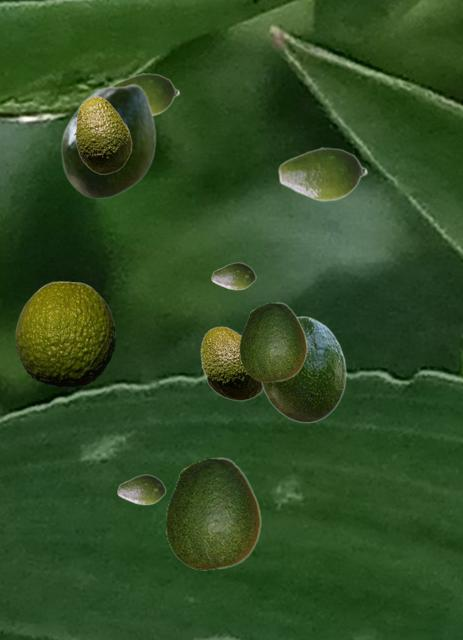avocado: (60, 83, 155, 198), (165, 457, 260, 569), (15, 281, 114, 386), (261, 316, 345, 422), (239, 302, 306, 381), (277, 146, 367, 201), (200, 326, 262, 400), (73, 96, 131, 173), (112, 72, 179, 116), (117, 474, 165, 504), (211, 262, 255, 289)
